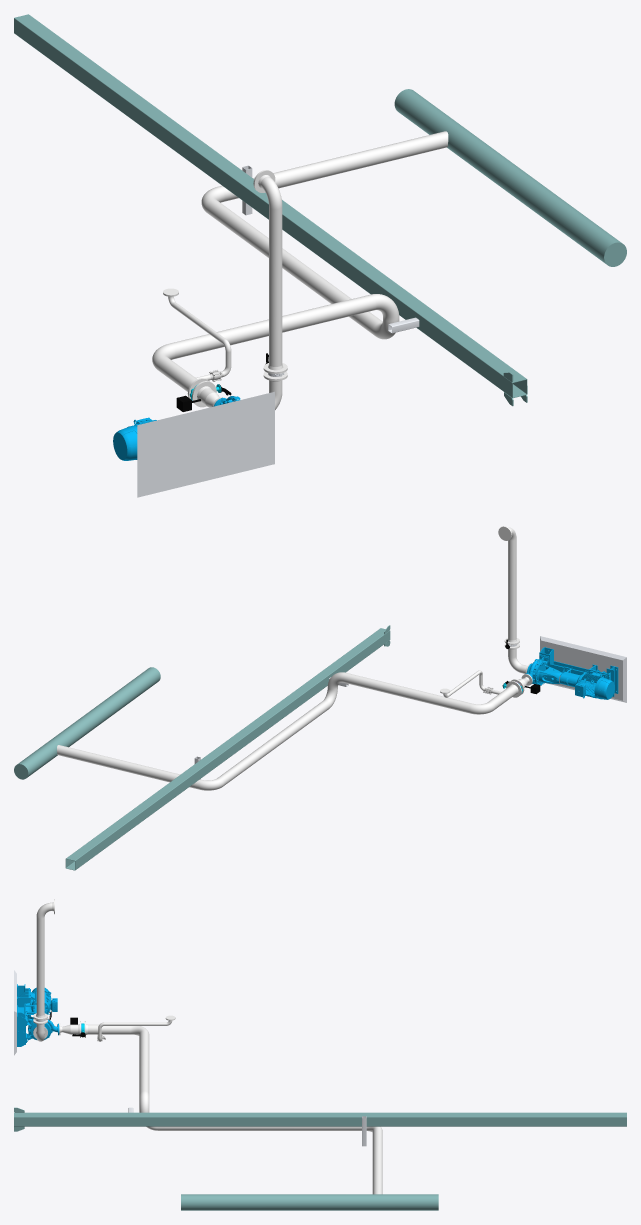
Rendered from New_Siebtechnik_New_PUMP5.glb.
3 renders of one model, top to bottom at view 1: azimuth 30°, elevation 25°; view 2: azimuth 150°, elevation 25°; view 3: azimuth 270°, elevation 25°, orthographic. The views are drawn at different scales.
Visible parts, largest first — view 1: Insert (×2), BLUE_PROJECTS_BPC AREA.dwg, ACPPPIPE (×5), 3D Solid; view 2: BLUE_PROJECTS_BPC AREA.dwg, ACPPPIPE (×4), Insert (×2), 3D Solid, Composite Part, SURFACE; view 3: BLUE_PROJECTS_BPC AREA.dwg, Insert, ACPPPIPE (×4), Composite Part.
Boxes of the visible parts, bbox=[...] form: Insert (×2): bbox=[137, 89, 626, 497]; BLUE_PROJECTS_BPC AREA.dwg: bbox=[14, 14, 527, 406]; ACPPPIPE (×5): bbox=[156, 131, 448, 391]; 3D Solid: bbox=[113, 417, 156, 460]; BLUE_PROJECTS_BPC AREA.dwg: bbox=[65, 625, 390, 870]; ACPPPIPE (×4): bbox=[57, 539, 516, 789]; Insert (×2): bbox=[14, 636, 626, 779]; 3D Solid: bbox=[575, 671, 614, 699]; Composite Part: bbox=[539, 647, 618, 696]; SURFACE: bbox=[525, 655, 568, 685]; BLUE_PROJECTS_BPC AREA.dwg: bbox=[14, 1107, 626, 1131]; Insert: bbox=[181, 1194, 438, 1210]; ACPPPIPE (×4): bbox=[36, 918, 382, 1194]; Composite Part: bbox=[17, 984, 30, 1046].
Size of the model in its own units: 7.49 by 3.26 by 10.35.
